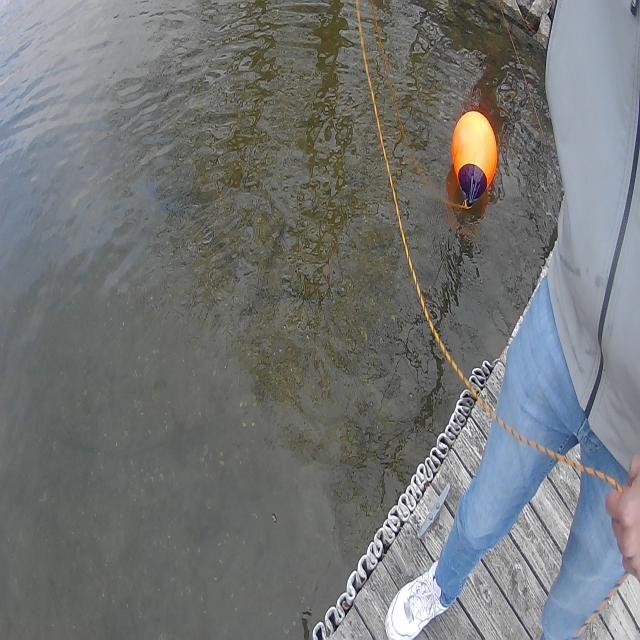Buoy: (447, 97, 504, 221)
